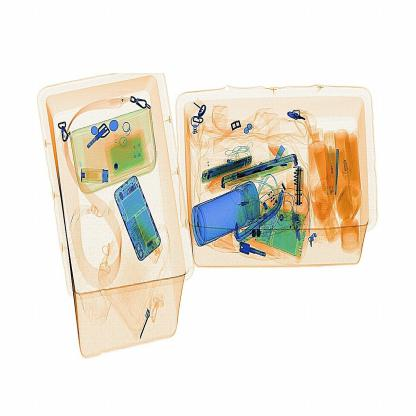scissors: (292, 165, 304, 210)
